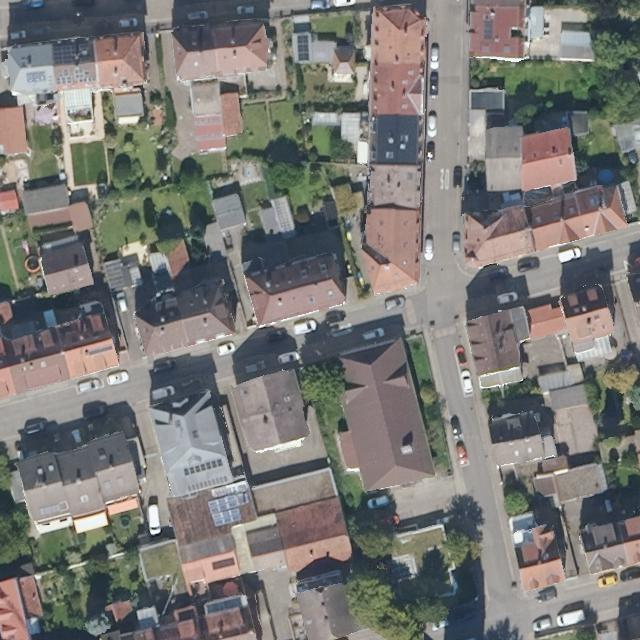PV: (54, 64, 98, 88), (54, 41, 94, 66), (295, 32, 313, 64)
